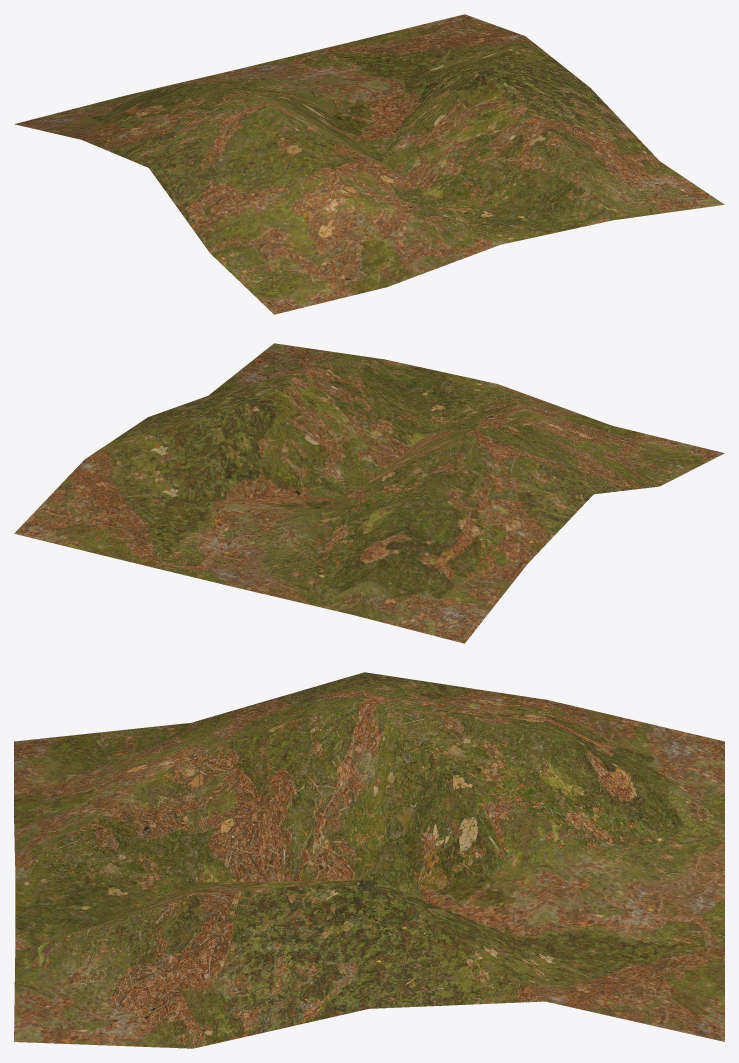
The model's file is grass 3.fbx.
3 renders of one model, top to bottom at view 1: azimuth 30°, elevation 25°; view 2: azimuth 150°, elevation 25°; view 3: azimuth 270°, elevation 25°, orthographic. The views are drawn at different scales.
Parts seen in each view (by area): view 1: grass 3.001; view 2: grass 3.001; view 3: grass 3.001.
Part boxes in pixels (left/top/right/bottom): grass 3.001: left=14, top=14, right=724, bottom=314; grass 3.001: left=14, top=343, right=724, bottom=643; grass 3.001: left=14, top=672, right=724, bottom=1048.
Size of the model in its own units: 18 by 18.02 by 3.53.
Materials: 1 (1 with a texture image).
